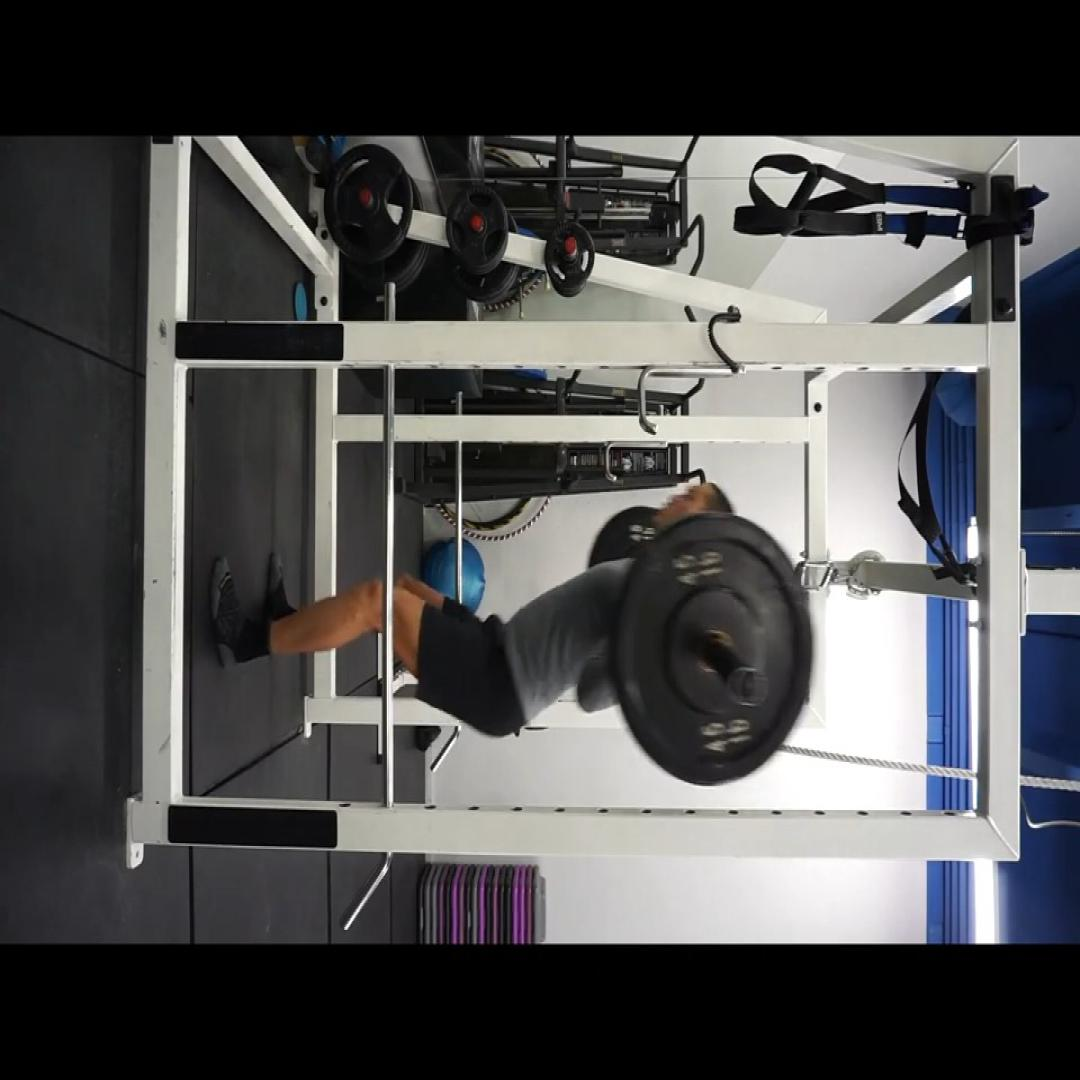Bar: (729, 668, 768, 708)
Barbell: (613, 512, 813, 784)
